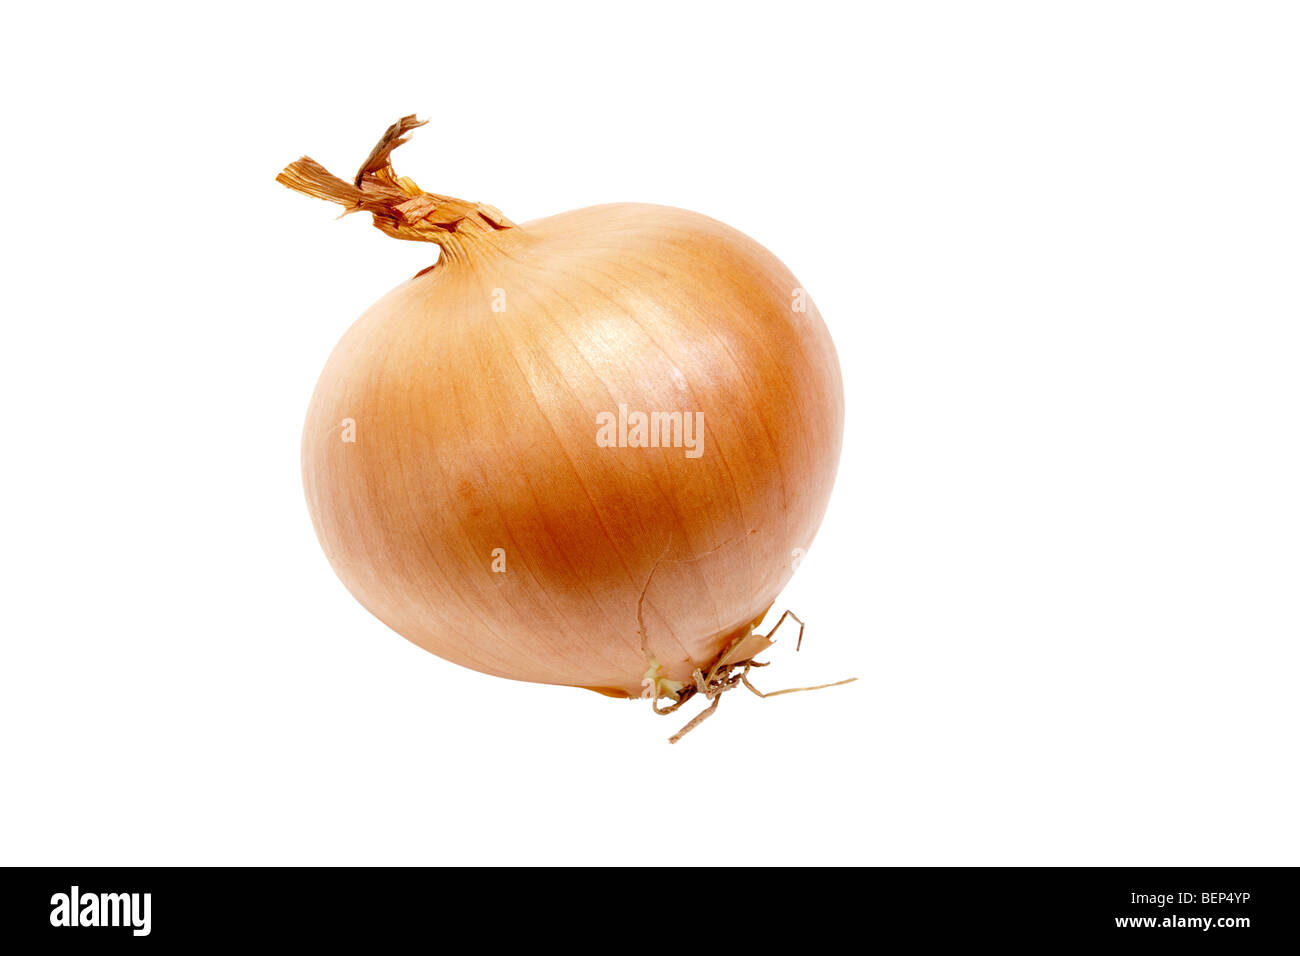onion: (220, 70, 885, 723)
